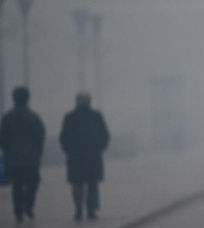person: (59, 90, 112, 224), (2, 87, 46, 225)
